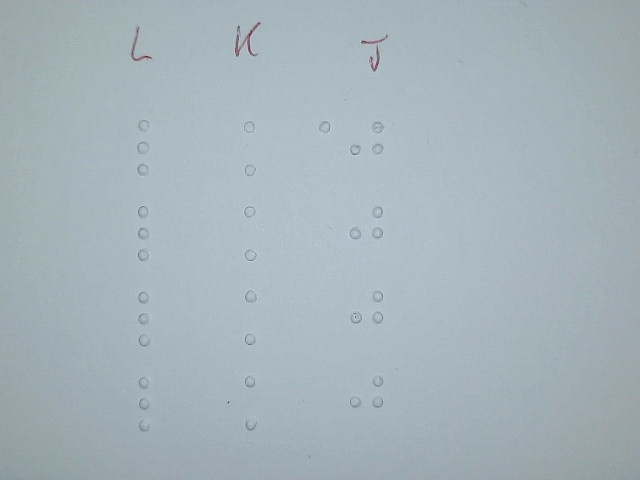J: (347, 111, 385, 172), (347, 197, 385, 258), (348, 279, 386, 340), (348, 365, 386, 426)
K: (237, 118, 280, 179), (236, 202, 279, 263), (235, 286, 278, 347), (236, 371, 279, 432)
L: (130, 117, 173, 178), (129, 203, 172, 264), (129, 288, 172, 349), (130, 372, 173, 433)
